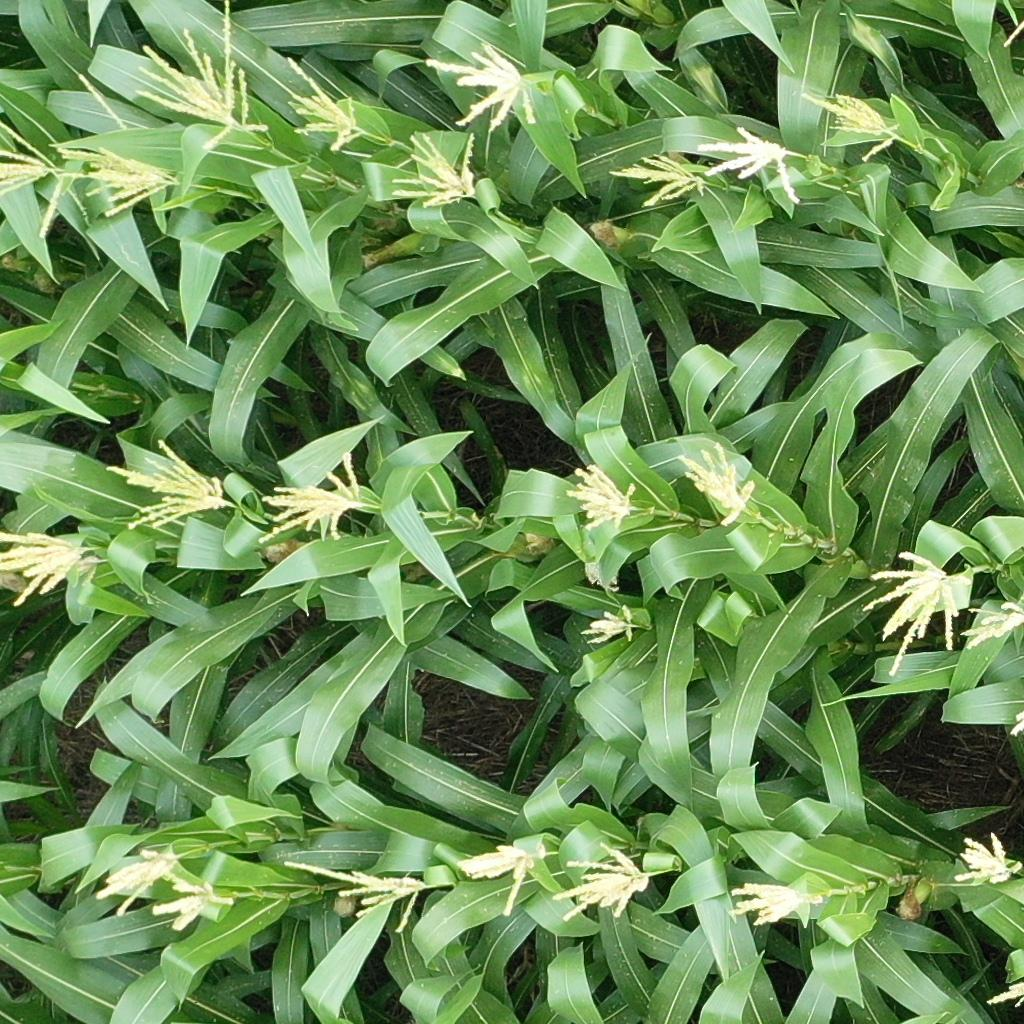Tassel: (134, 1, 272, 150), (862, 549, 960, 678), (252, 450, 382, 545), (104, 438, 235, 531), (281, 859, 429, 933), (423, 43, 539, 130), (59, 137, 180, 212), (697, 125, 806, 206), (285, 55, 367, 154), (549, 843, 653, 921), (1, 121, 69, 236), (801, 90, 903, 164), (390, 129, 481, 210), (675, 440, 757, 528), (1, 530, 94, 607), (94, 847, 185, 918), (608, 151, 706, 207), (456, 843, 532, 913), (564, 463, 641, 530), (149, 879, 234, 931), (726, 879, 810, 926), (952, 831, 1021, 886), (958, 599, 1024, 651), (580, 606, 639, 648), (982, 979, 1023, 1007), (1010, 712, 1024, 737)
